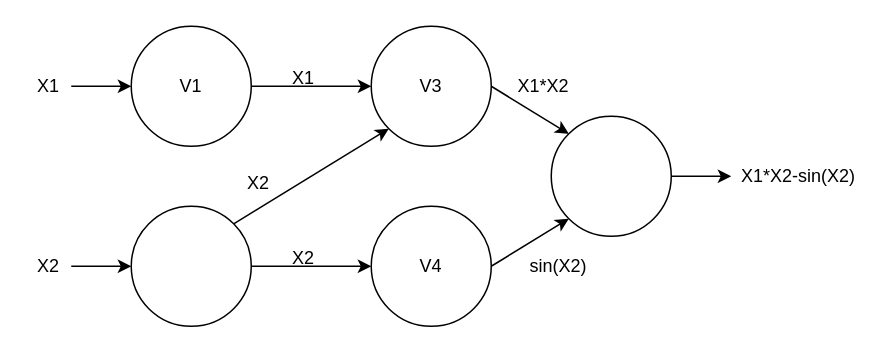
The diagram is 891 pixels wide and 353 high, and some of its shapes have lost their labels. The centre of each missing label's shape, as x and y in pixels:
V2: the point at 190,265
V5: the point at 610,175
